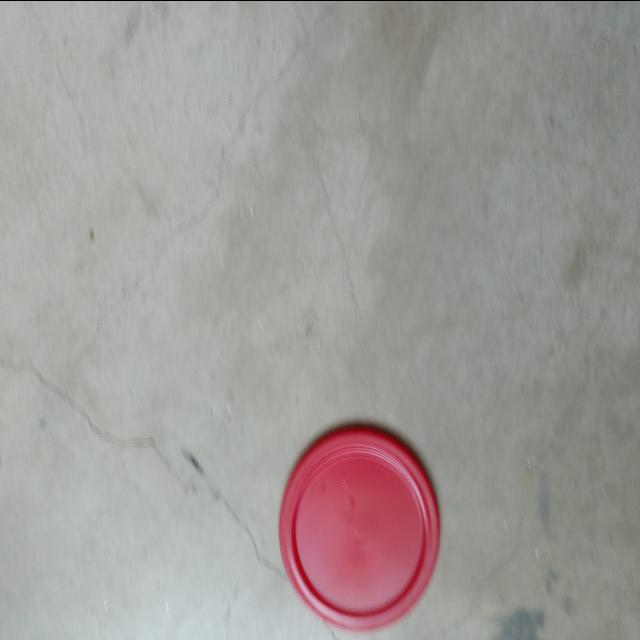chip: (278, 421, 438, 634)
